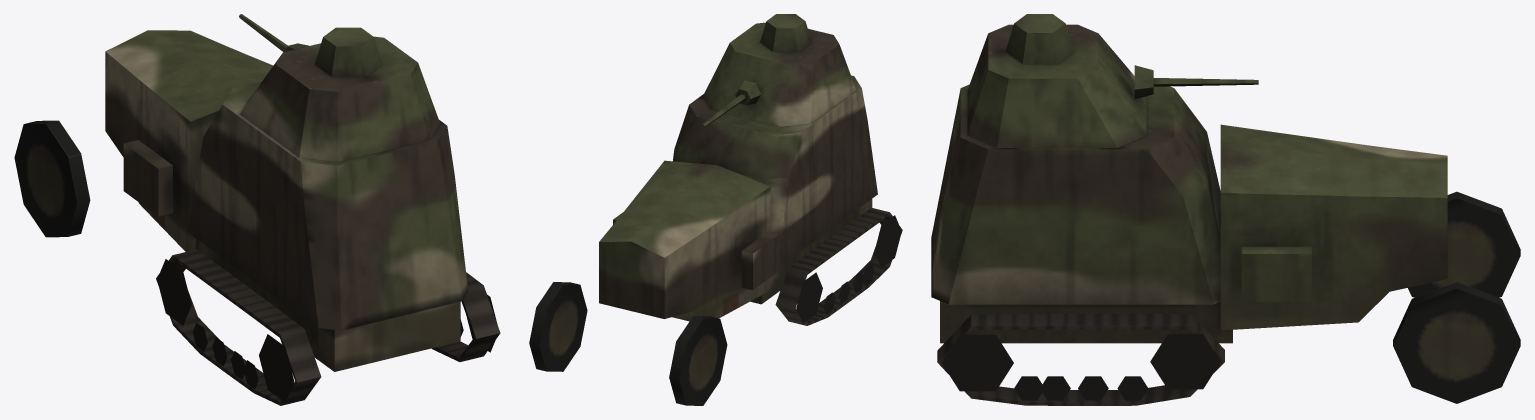
The model's file is WZ28_CKM_LOW.fbx.
The picture shows the model from 3 angles, left to right: view 1: azimuth 30°, elevation 25°; view 2: azimuth 150°, elevation 25°; view 3: azimuth 270°, elevation 25°; orthographic projection. The views are drawn at different scales.
Visible parts, largest first — view 1: Chassis, Tourelle_01, Roue_Gauche_01, Chenille_Gauche_01, Chenille_Droite_01, Roue_G6, Roue_G1; view 2: Chassis, Tourelle_01, Roue_Droite_01, Roue_Gauche_01, Chenille_Gauche_01, Roue_G6, Roue_G1, Axe_Canon_01; view 3: Chassis, Tourelle_01, Roue_Droite_01, Chenille_Droite_01, Roue_Gauche_01, Roue_D6, Roue_D1, Canon_01, Axe_Canon_01, Roue_D3, Roue_D4, Roue_D2 (+1 smaller).
Boxes of the visible parts, box(x1,y1,x2,y2) form: Chassis: box(105, 30, 468, 371); Tourelle_01: box(240, 27, 439, 161); Roue_Gauche_01: box(14, 120, 90, 237); Chenille_Gauche_01: box(156, 249, 321, 405); Chenille_Droite_01: box(431, 272, 500, 361); Roue_G6: box(259, 334, 294, 402); Roue_G1: box(157, 259, 191, 325); Chassis: box(599, 75, 877, 321); Tourelle_01: box(702, 14, 856, 126); Roue_Droite_01: box(529, 282, 587, 371); Roue_Gauche_01: box(669, 316, 727, 405); Chenille_Gauche_01: box(775, 208, 902, 325); Roue_G6: box(874, 215, 901, 267); Roue_G1: box(796, 272, 822, 323); Axe_Canon_01: box(735, 80, 761, 104); Chassis: box(931, 84, 1447, 343); Tourelle_01: box(967, 14, 1146, 147); Roue_Droite_01: box(1393, 282, 1520, 403); Chenille_Droite_01: box(937, 313, 1224, 405); Roue_Gauche_01: box(1408, 191, 1520, 297); Roue_D6: box(942, 334, 1013, 391); Roue_D1: box(1150, 334, 1220, 389); Canon_01: box(1153, 78, 1258, 86); Axe_Canon_01: box(1134, 65, 1153, 99); Roue_D3: box(1078, 376, 1108, 400); Roue_D4: box(1040, 376, 1070, 400); Roue_D2: box(1117, 376, 1148, 400).
Bounding box in the file's own units: 140 × 342 × 213.
1 material, 1 textured.
